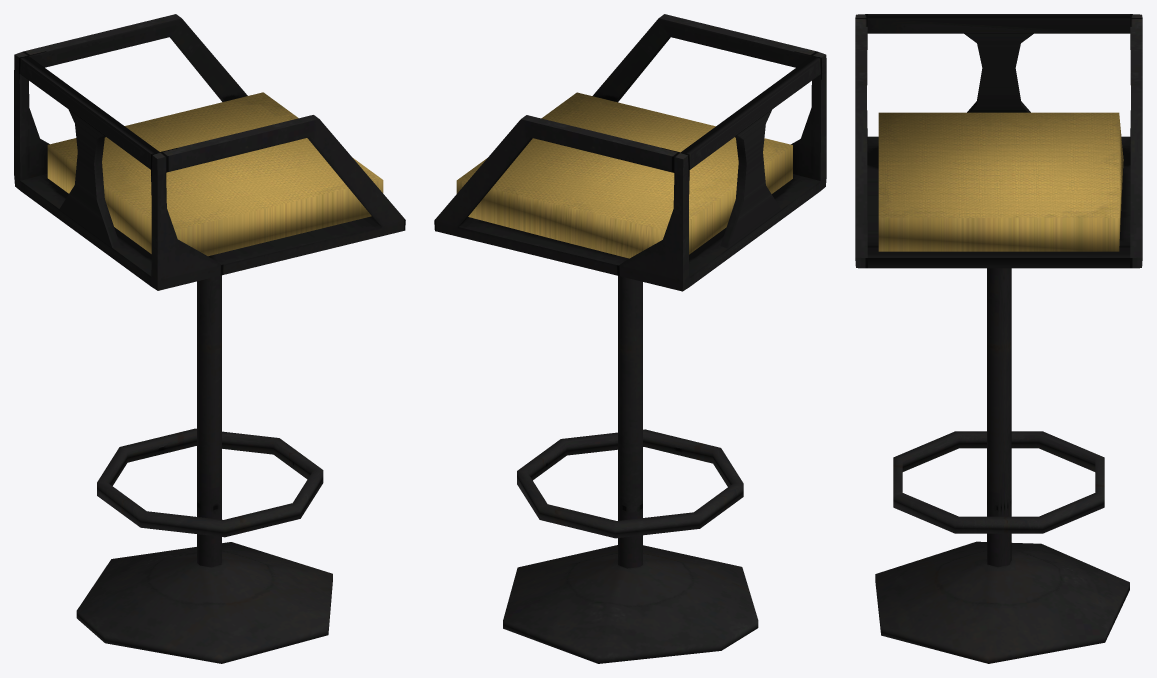
File: p6_hijacked_barstool_lod2.glb
3 views of the same model, side by side, from view 1: azimuth 30°, elevation 25°; view 2: azimuth 150°, elevation 25°; view 3: azimuth 270°, elevation 25° (orthographic).
Parts seen in each view (by area): view 1: surf0, surf1; view 2: surf0, surf1; view 3: surf0, surf1.
Boxes of the visible parts, box(x1,y1,x2,y2) form: surf0: box(14, 14, 405, 663); surf1: box(47, 92, 383, 256); surf0: box(434, 14, 826, 663); surf1: box(456, 92, 792, 258); surf0: box(855, 14, 1142, 663); surf1: box(878, 112, 1123, 251).
Bounding box in the file's own units: 21.85 × 44.51 × 21.8.
